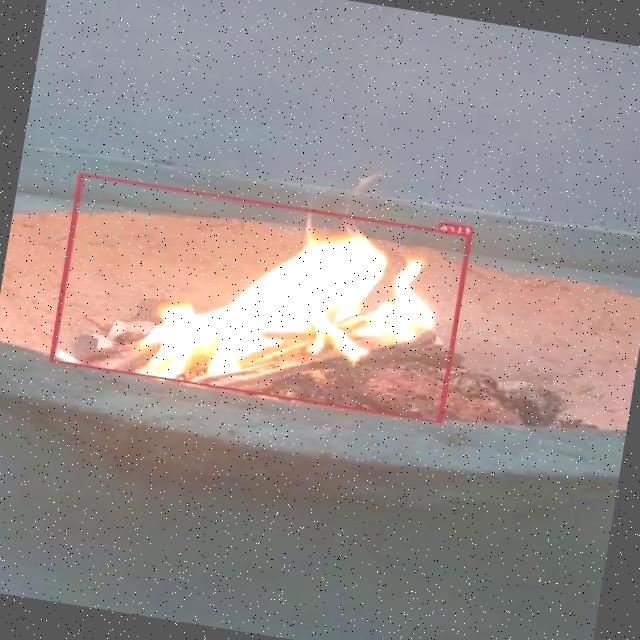fire: (50, 172, 472, 424)
